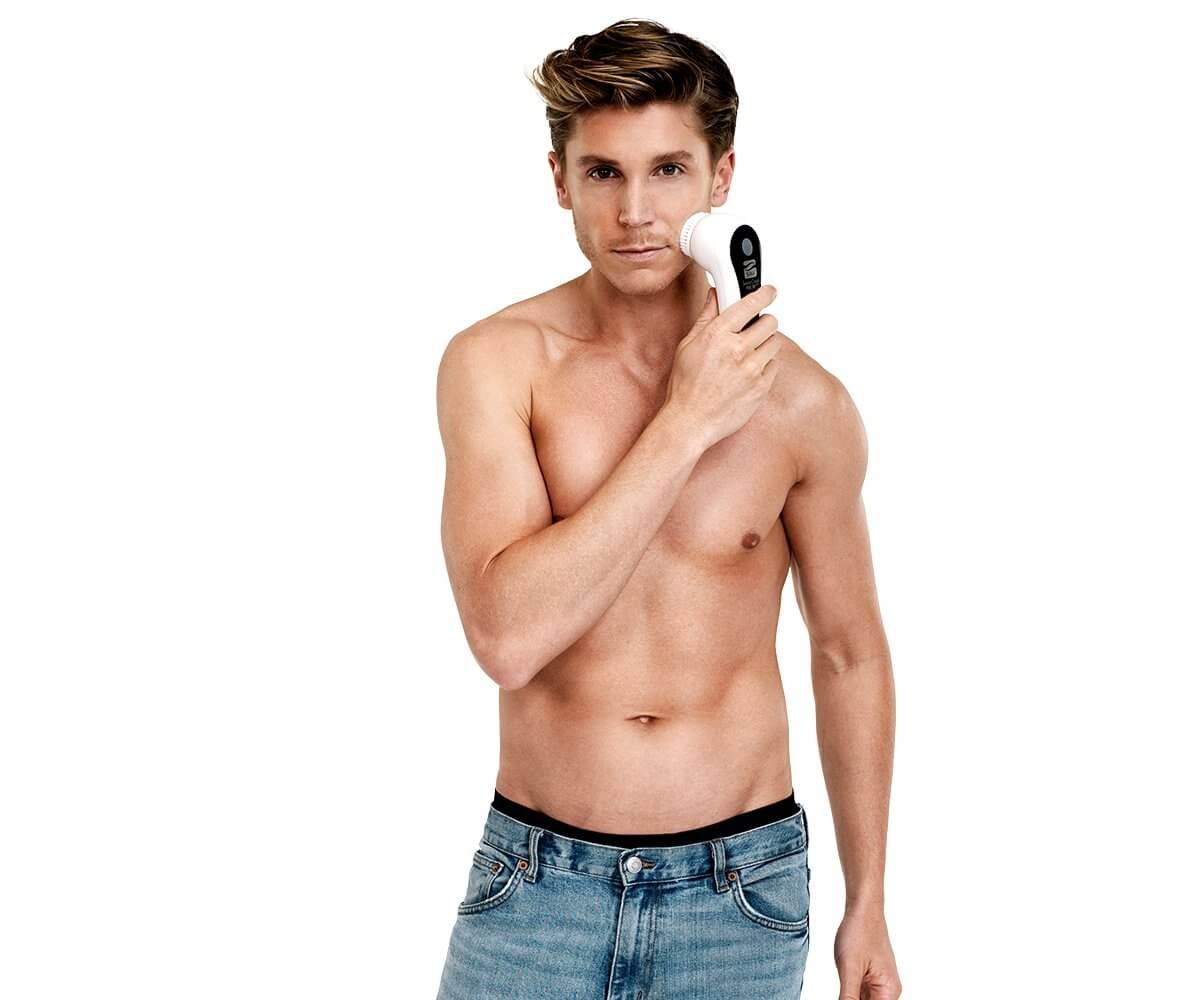NOTSAFE: (501, 8, 790, 830)
